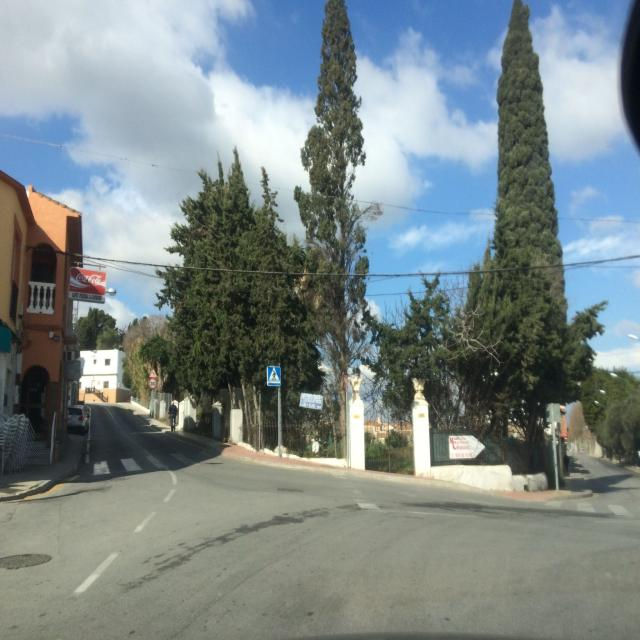car: (65, 404, 90, 434)
